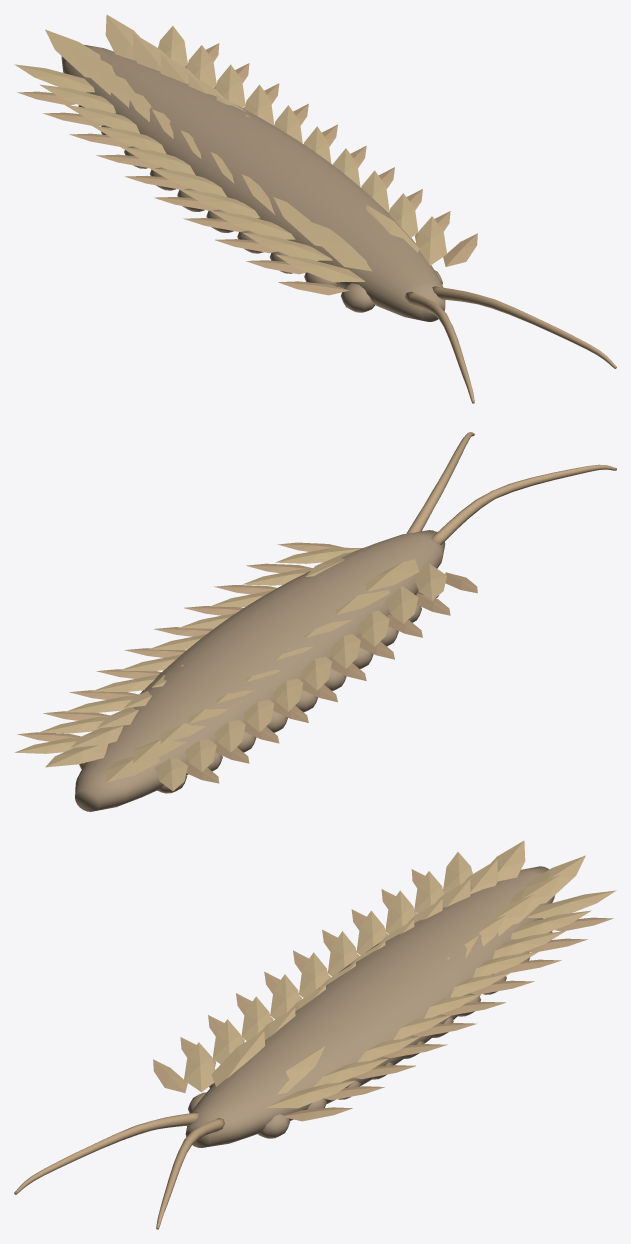
The model's file is canadia.glb.
The picture shows the model from 3 angles, top to bottom: view 1: azimuth 30°, elevation 25°; view 2: azimuth 150°, elevation 25°; view 3: azimuth 330°, elevation 25°; orthographic projection.
Parts seen in each view (by area): view 1: overlapping-wide-leaflike-dorsal-chaetal-fans, continuous-dorsoventrally-flattened-segmented-worm, two-smooth-anterior-tentacles, paired-small-parapodial-chaeta-bases; view 2: overlapping-wide-leaflike-dorsal-chaetal-fans, continuous-dorsoventrally-flattened-segmented-worm, two-smooth-anterior-tentacles, paired-small-parapodial-chaeta-bases; view 3: overlapping-wide-leaflike-dorsal-chaetal-fans, continuous-dorsoventrally-flattened-segmented-worm, two-smooth-anterior-tentacles, paired-small-parapodial-chaeta-bases.
Part boxes in pixels (box(x1,y1,x2,y2)): overlapping-wide-leaflike-dorsal-chaetal-fans: box(14, 14, 477, 295); continuous-dorsoventrally-flattened-segmented-worm: box(61, 45, 445, 321); two-smooth-anterior-tentacles: box(405, 286, 616, 403); paired-small-parapodial-chaeta-bases: box(78, 105, 442, 312); overlapping-wide-leaflike-dorsal-chaetal-fans: box(15, 542, 477, 790); continuous-dorsoventrally-flattened-segmented-worm: box(75, 530, 445, 811); two-smooth-anterior-tentacles: box(406, 432, 616, 544); paired-small-parapodial-chaeta-bases: box(79, 590, 438, 793); overlapping-wide-leaflike-dorsal-chaetal-fans: box(153, 840, 616, 1121); continuous-dorsoventrally-flattened-segmented-worm: box(185, 866, 554, 1147); two-smooth-anterior-tentacles: box(14, 1112, 224, 1229); paired-small-parapodial-chaeta-bases: box(188, 919, 552, 1138).
Size of the model in its own units: 0.021 by 0.0062 by 0.0799.
